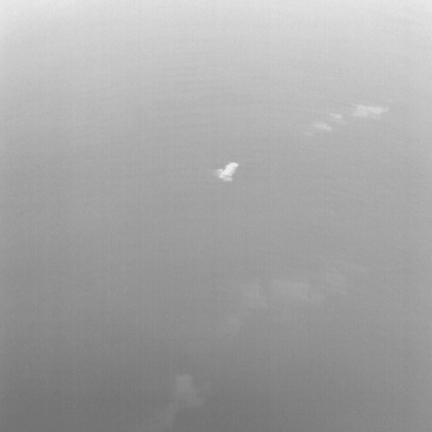flukeprints: (246, 259, 346, 310), (148, 375, 203, 431), (352, 105, 387, 118), (215, 162, 238, 181), (229, 312, 245, 329), (313, 122, 331, 130), (330, 114, 342, 123)
